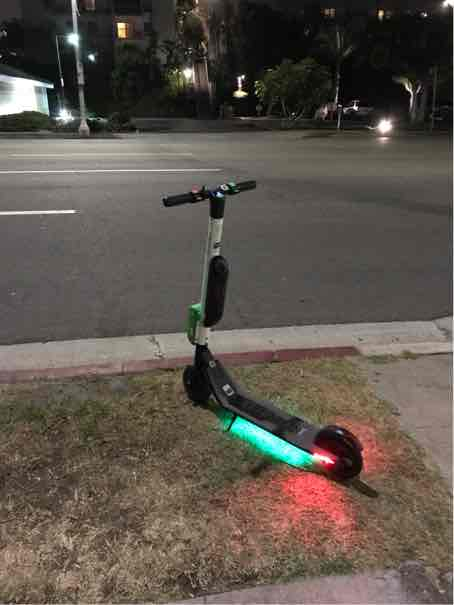scooter: (164, 164, 369, 495)
